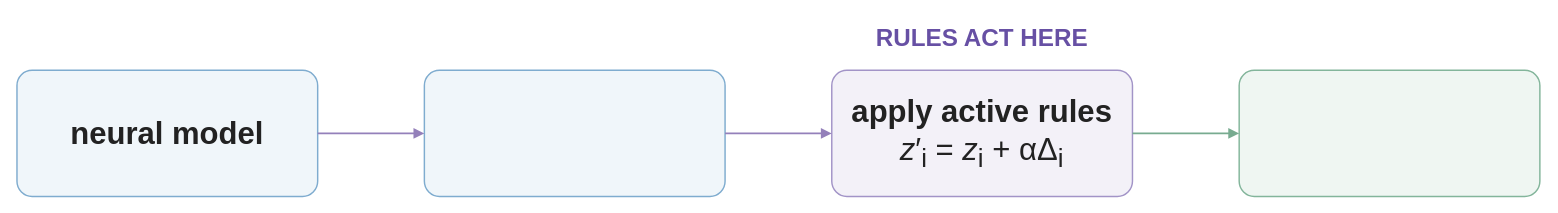
Some shapes in this 1558 by 213 pixel diagram are drawn without their labels. Here are the shapes that lost their labels. From the top down, the centre of each, then its label:
At point 574,133: "neural scores z i".
At point 1389,133: "corrected prediction".
